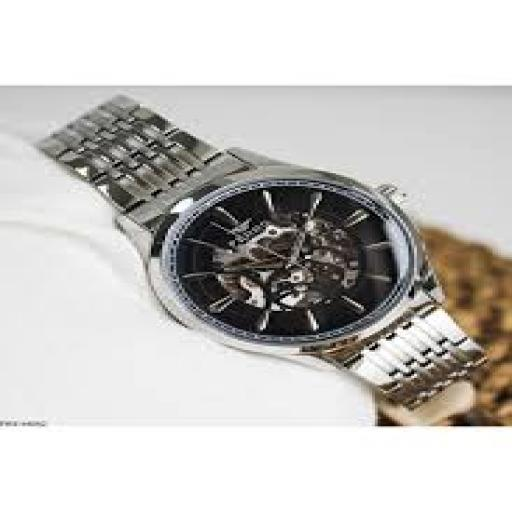KolSaati: (27, 95, 472, 411)
